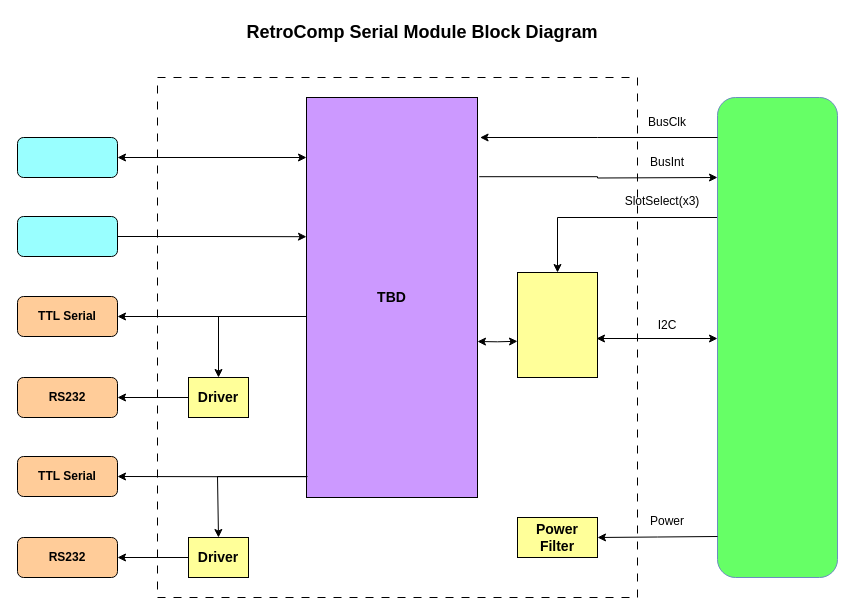
The diagram is 855 pixels wide and 615 high, and some of its shapes have lost their labels. The box of each missing label's shape, as (x1, y1, x2, y2) in pixels:
Backplane: (716, 96, 838, 578)
Config: (516, 272, 598, 378)
Debug: (16, 136, 118, 178)
Programming: (16, 216, 118, 256)
